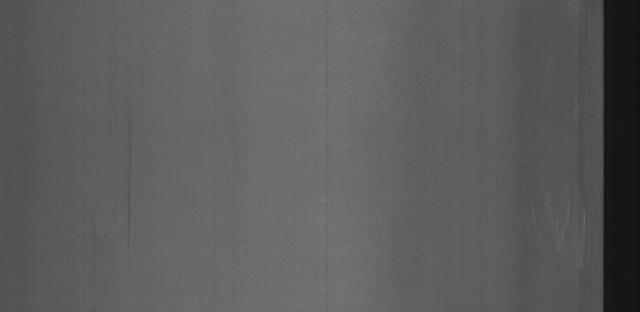silk_spot: (537, 182, 592, 266)
